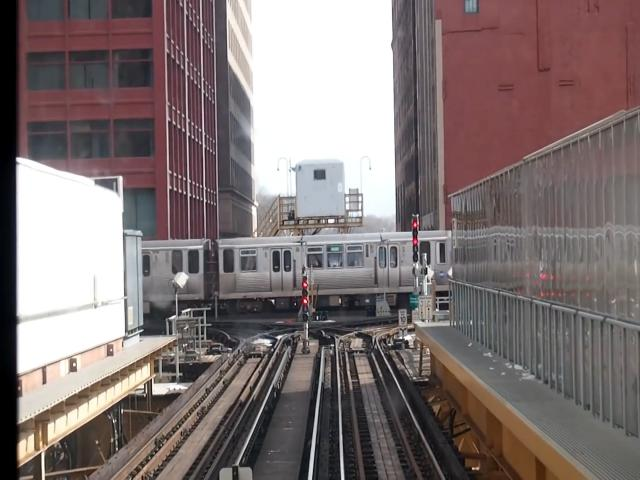signal light: (301, 275, 311, 324), (412, 215, 421, 265)
